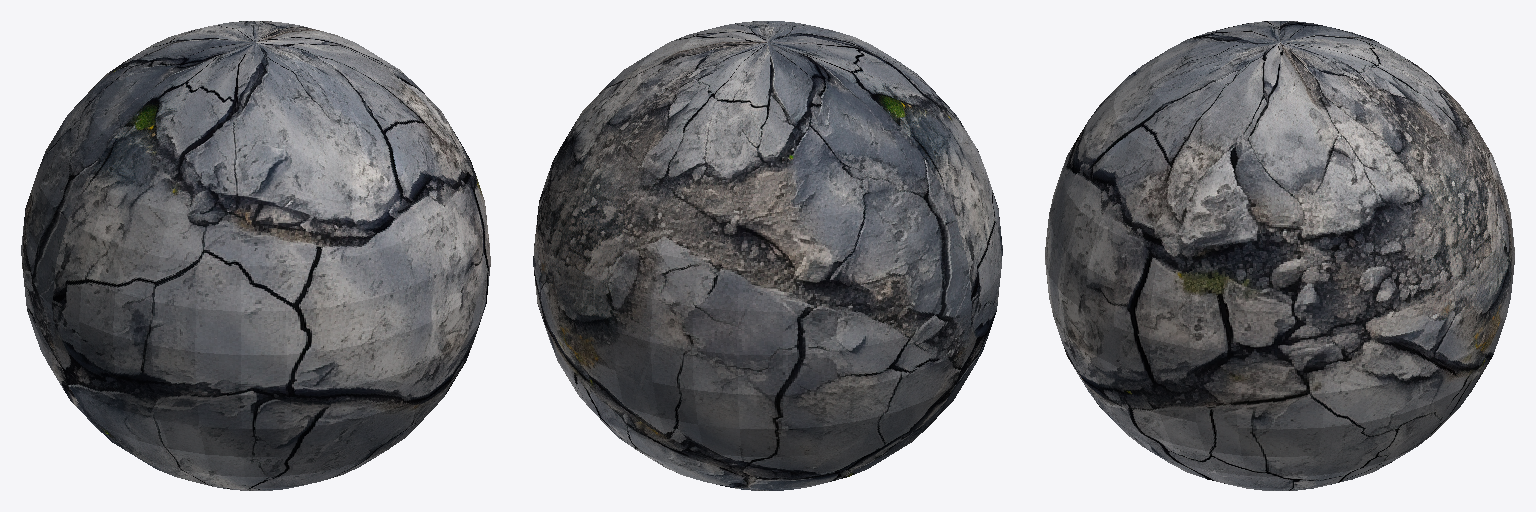
3 views of the same model, side by side, from view 1: azimuth 30°, elevation 25°; view 2: azimuth 150°, elevation 25°; view 3: azimuth 270°, elevation 25° (orthographic).
Visible parts, largest first — view 1: Sphere33; view 2: Sphere33; view 3: Sphere33.
Boxes of the visible parts, <box> form: Sphere33: <box>21,21,490,490</box>; Sphere33: <box>533,21,1002,490</box>; Sphere33: <box>1045,21,1514,490</box>.
Bounding box in the file's own units: 2 × 2 × 2.
Materials: 1 (1 with a texture image).